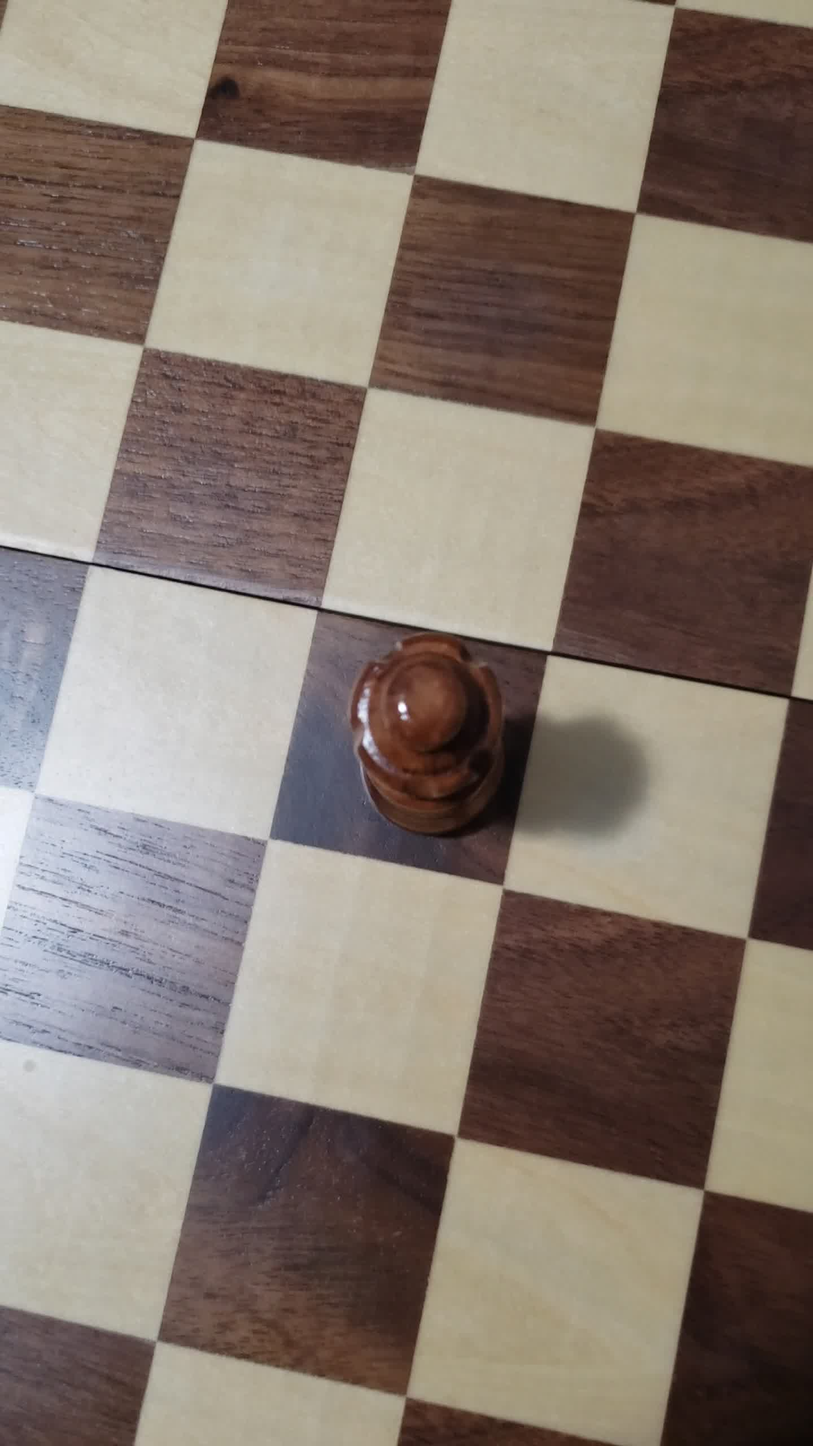black-queen: (302, 599, 559, 872)
